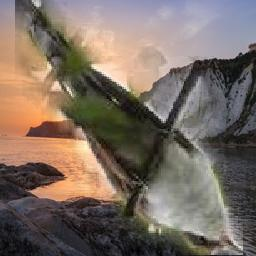Cuckoo: (15, 1, 243, 256)
